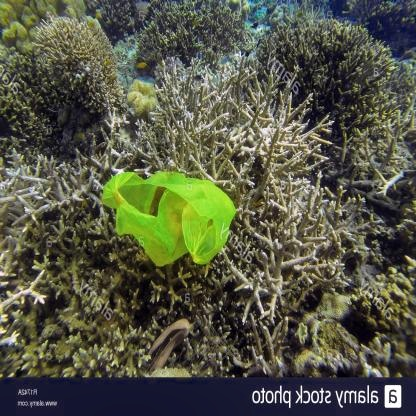pbag: (96, 164, 238, 268)
